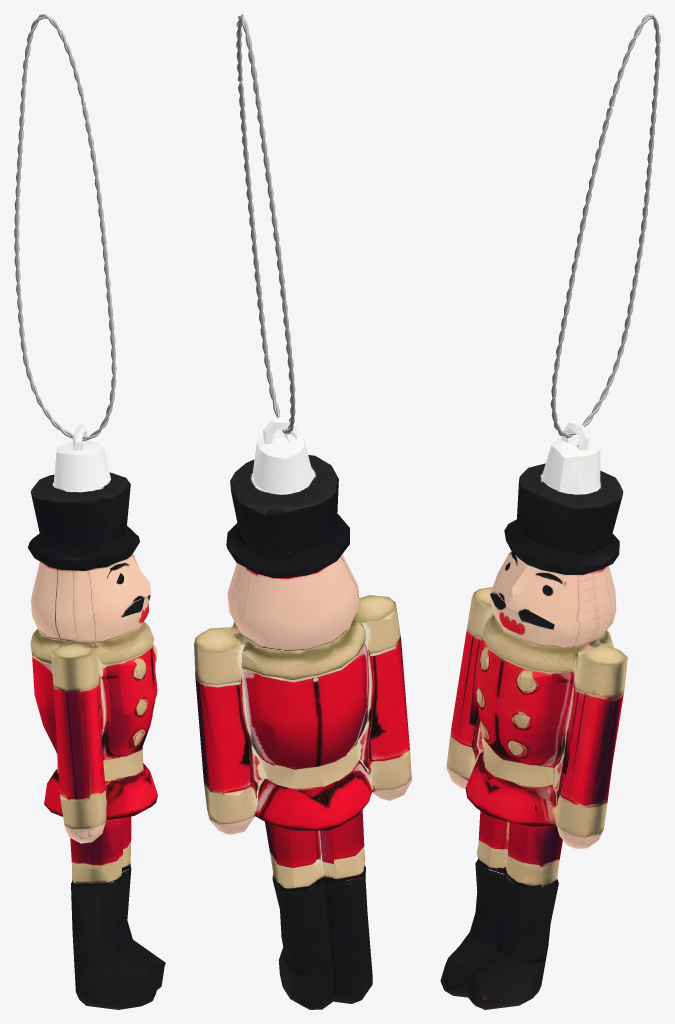
File: Nutcracker_Soldier1.glb
3 renders of one model, left to right at view 1: azimuth 30°, elevation 25°; view 2: azimuth 150°, elevation 25°; view 3: azimuth 270°, elevation 25°, orthographic. The views are drawn at different scales.
Parts seen in each view (by area): view 1: Mesh1.0, GN Instance; view 2: Mesh1.0, GN Instance; view 3: Mesh1.0, GN Instance.
Part boxes in pixels (x1=…): Mesh1.0: x1=28, y1=424, x2=165, y2=1009; GN Instance: x1=14, y1=14, x2=116, y2=441; Mesh1.0: x1=194, y1=417, x2=411, y2=1009; GN Instance: x1=236, y1=14, x2=295, y2=434; Mesh1.0: x1=440, y1=423, x2=627, y2=1009; GN Instance: x1=550, y1=14, x2=660, y2=438.
Size of the model in its own units: 0.0319 by 0.2213 by 0.0448.
2 materials, 1 textured.
